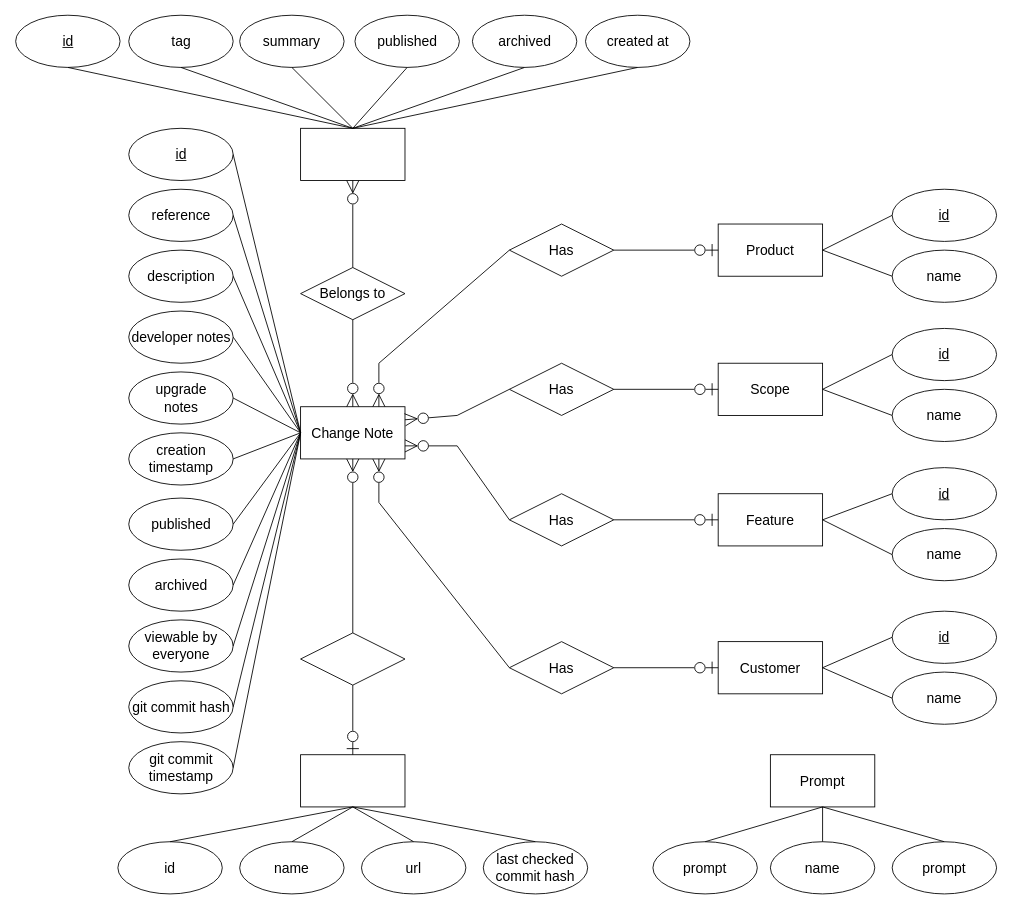
The diagram is 1012 pixels wide and 909 high, and some of its shapes have lost their labels. The centre of each missing label's shape, as x and y in pixels:
"Git Repository" goes at (x=352, y=780).
"References" goes at (x=352, y=658).
"Release Note" goes at (x=352, y=154).
